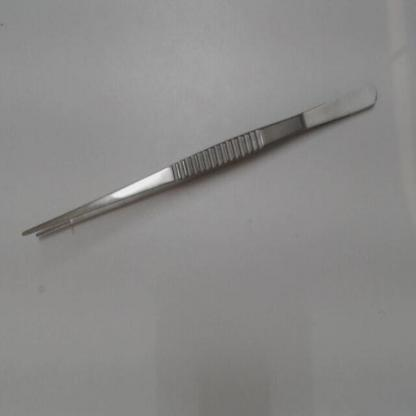DeBakey Dissector: (9, 65, 393, 291)
